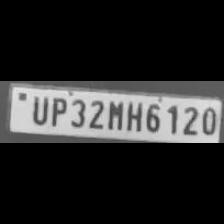0: (198, 103, 218, 135)
1: (162, 102, 180, 134)
2: (178, 102, 198, 136), (86, 97, 104, 129)
3: (67, 96, 85, 128)
6: (142, 102, 162, 132)
H: (124, 97, 142, 131)
M: (104, 98, 124, 130)
P: (47, 96, 66, 127)
U: (28, 94, 48, 124)
